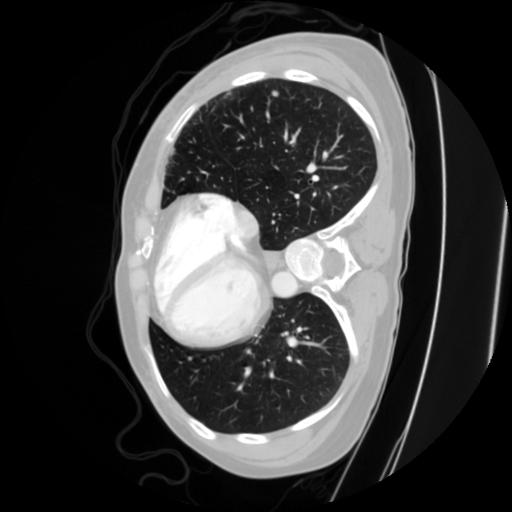nodule: (268, 86, 282, 100)
